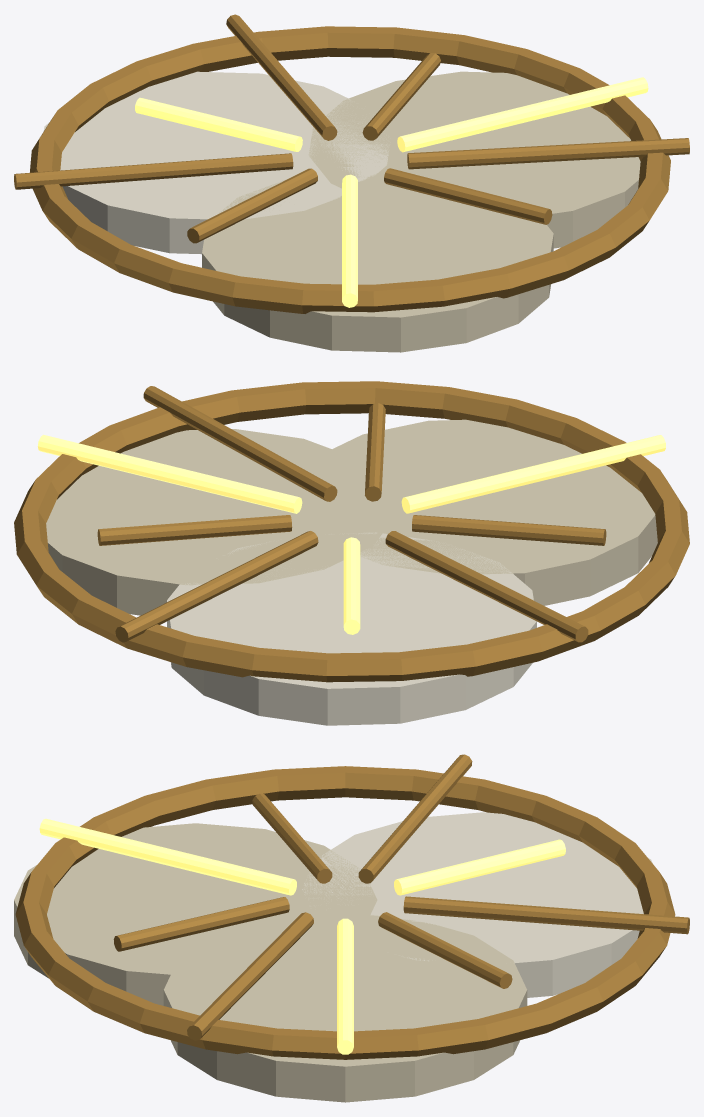
Rendered from runtime.glb.
3 renders of one model, top to bottom at view 1: azimuth 30°, elevation 25°; view 2: azimuth 150°, elevation 25°; view 3: azimuth 270°, elevation 25°, orthographic. The views are drawn at different scales.
Parts seen in each view (by area): view 1: aetherion-astronomical-medallion-v08_outer_meridian_nocol, aetherion-astronomical-medallion-v08_lobe_2_nocol, aetherion-astronomical-medallion-v08_lobe_1_nocol, aetherion-astronomical-medallion-v08_lobe_0_nocol, aetherion-astronomical-medallion-v08_bearing_08_nocol, aetherion-astronomical-medallion-v08_bearing_04_nocol, aetherion-astronomical-medallion-v08_bearing_00_nocol, aetherion-astronomical-medallion-v08_bearing_07_nocol, aetherion-astronomical-medallion-v08_bearing_03_nocol, aetherion-astronomical-medallion-v08_bearing_02_nocol, aetherion-astronomical-medallion-v08_bearing_05_nocol, aetherion-astronomical-medallion-v08_bearing_06_nocol (+1 smaller); view 2: aetherion-astronomical-medallion-v08_outer_meridian_nocol, aetherion-astronomical-medallion-v08_lobe_1_nocol, aetherion-astronomical-medallion-v08_lobe_0_nocol, aetherion-astronomical-medallion-v08_lobe_2_nocol, aetherion-astronomical-medallion-v08_bearing_00_nocol, aetherion-astronomical-medallion-v08_bearing_06_nocol, aetherion-astronomical-medallion-v08_bearing_04_nocol, aetherion-astronomical-medallion-v08_bearing_02_nocol, aetherion-astronomical-medallion-v08_bearing_08_nocol, aetherion-astronomical-medallion-v08_bearing_01_nocol, aetherion-astronomical-medallion-v08_bearing_05_nocol, aetherion-astronomical-medallion-v08_bearing_03_nocol (+1 smaller); view 3: aetherion-astronomical-medallion-v08_outer_meridian_nocol, aetherion-astronomical-medallion-v08_lobe_0_nocol, aetherion-astronomical-medallion-v08_lobe_2_nocol, aetherion-astronomical-medallion-v08_lobe_1_nocol, aetherion-astronomical-medallion-v08_bearing_02_nocol, aetherion-astronomical-medallion-v08_bearing_06_nocol, aetherion-astronomical-medallion-v08_bearing_03_nocol, aetherion-astronomical-medallion-v08_bearing_07_nocol, aetherion-astronomical-medallion-v08_bearing_08_nocol, aetherion-astronomical-medallion-v08_bearing_04_nocol, aetherion-astronomical-medallion-v08_bearing_01_nocol, aetherion-astronomical-medallion-v08_bearing_00_nocol (+1 smaller).
Part boxes in pixels (<box>): aetherion-astronomical-medallion-v08_outer_meridian_nocol: <box>30,26,670,313</box>; aetherion-astronomical-medallion-v08_lobe_2_nocol: <box>202,171,553,352</box>; aetherion-astronomical-medallion-v08_lobe_1_nocol: <box>43,71,390,254</box>; aetherion-astronomical-medallion-v08_lobe_0_nocol: <box>308,71,640,248</box>; aetherion-astronomical-medallion-v08_bearing_08_nocol: <box>407,138,689,169</box>; aetherion-astronomical-medallion-v08_bearing_04_nocol: <box>14,153,293,189</box>; aetherion-astronomical-medallion-v08_bearing_00_nocol: <box>397,77,648,152</box>; aetherion-astronomical-medallion-v08_bearing_07_nocol: <box>384,168,552,224</box>; aetherion-astronomical-medallion-v08_bearing_03_nocol: <box>135,97,302,151</box>; aetherion-astronomical-medallion-v08_bearing_02_nocol: <box>226,14,337,140</box>; aetherion-astronomical-medallion-v08_bearing_05_nocol: <box>187,168,317,243</box>; aetherion-astronomical-medallion-v08_bearing_06_nocol: <box>342,174,357,307</box>; aetherion-astronomical-medallion-v08_outer_meridian_nocol: <box>14,381,689,682</box>; aetherion-astronomical-medallion-v08_lobe_1_nocol: <box>167,532,536,725</box>; aetherion-astronomical-medallion-v08_lobe_0_nocol: <box>46,429,395,615</box>; aetherion-astronomical-medallion-v08_lobe_2_nocol: <box>291,419,657,605</box>; aetherion-astronomical-medallion-v08_bearing_00_nocol: <box>37,434,302,513</box>; aetherion-astronomical-medallion-v08_bearing_06_nocol: <box>401,435,665,513</box>; aetherion-astronomical-medallion-v08_bearing_04_nocol: <box>385,531,588,642</box>; aetherion-astronomical-medallion-v08_bearing_02_nocol: <box>115,531,318,642</box>; aetherion-astronomical-medallion-v08_bearing_08_nocol: <box>143,386,337,501</box>; aetherion-astronomical-medallion-v08_bearing_01_nocol: <box>97,515,292,545</box>; aetherion-astronomical-medallion-v08_bearing_05_nocol: <box>412,515,606,545</box>; aetherion-astronomical-medallion-v08_bearing_03_nocol: <box>343,537,360,634</box>; aetherion-astronomical-medallion-v08_outer_meridian_nocol: <box>15,766,675,1059</box>; aetherion-astronomical-medallion-v08_lobe_0_nocol: <box>163,913,527,1102</box>; aetherion-astronomical-medallion-v08_lobe_2_nocol: <box>14,823,377,1005</box>; aetherion-astronomical-medallion-v08_lobe_1_nocol: <box>302,812,652,997</box>; aetherion-astronomical-medallion-v08_bearing_02_nocol: <box>403,896,689,934</box>; aetherion-astronomical-medallion-v08_bearing_06_nocol: <box>39,818,296,895</box>; aetherion-astronomical-medallion-v08_bearing_03_nocol: <box>394,839,565,895</box>; aetherion-astronomical-medallion-v08_bearing_07_nocol: <box>113,897,289,951</box>; aetherion-astronomical-medallion-v08_bearing_08_nocol: <box>187,912,313,1040</box>; aetherion-astronomical-medallion-v08_bearing_04_nocol: <box>358,754,472,883</box>; aetherion-astronomical-medallion-v08_bearing_01_nocol: <box>378,912,512,988</box>; aetherion-astronomical-medallion-v08_bearing_00_nocol: <box>337,918,353,1054</box>.
Bounding box in the file's own units: 6.06 × 0.6486 × 6.04.
